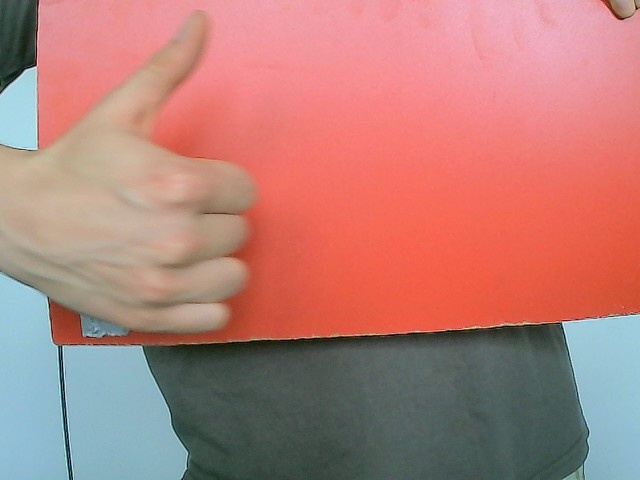up: (31, 8, 258, 337)
